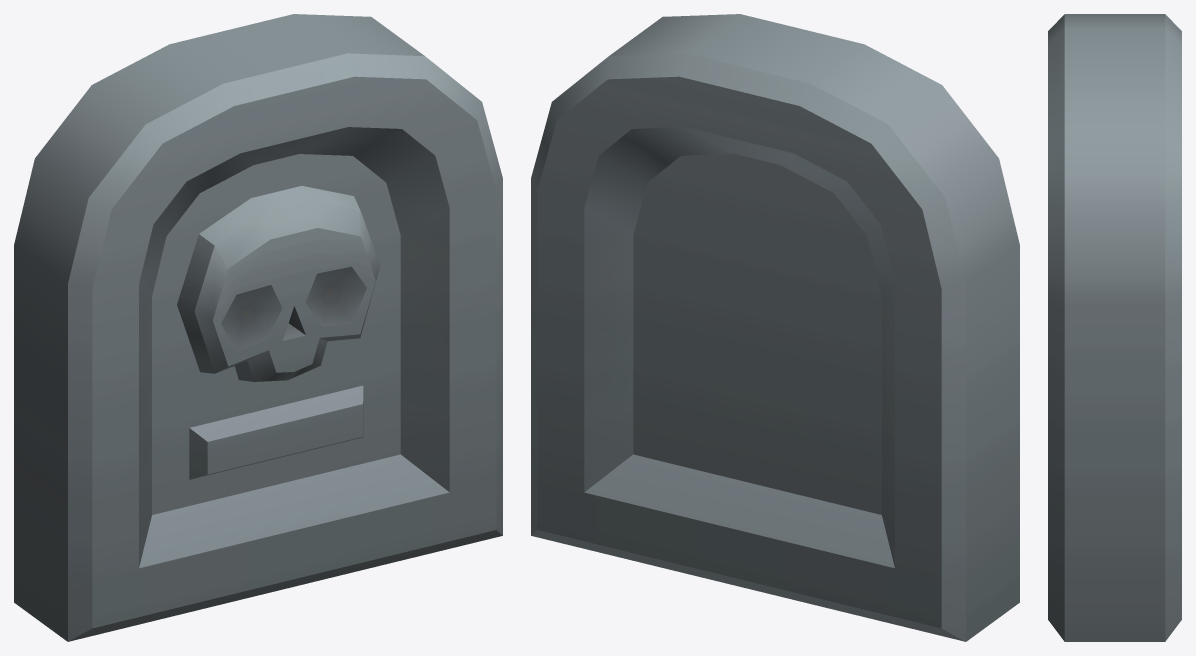
Rendered from gravestone.glb.
3 views of the same model, side by side, from view 1: azimuth 30°, elevation 25°; view 2: azimuth 150°, elevation 25°; view 3: azimuth 270°, elevation 25° (orthographic). The views are drawn at different scales.
Visible parts, largest first — view 1: gravestone; view 2: gravestone; view 3: gravestone.
Boxes of the visible parts, bbox=[...] form: gravestone: bbox=[14, 14, 502, 641]; gravestone: bbox=[531, 14, 1019, 641]; gravestone: bbox=[1048, 14, 1181, 641].
Size of the model in its own units: 1.4 by 1.6 by 0.4001.
Materials: 1 (1 with a texture image).
